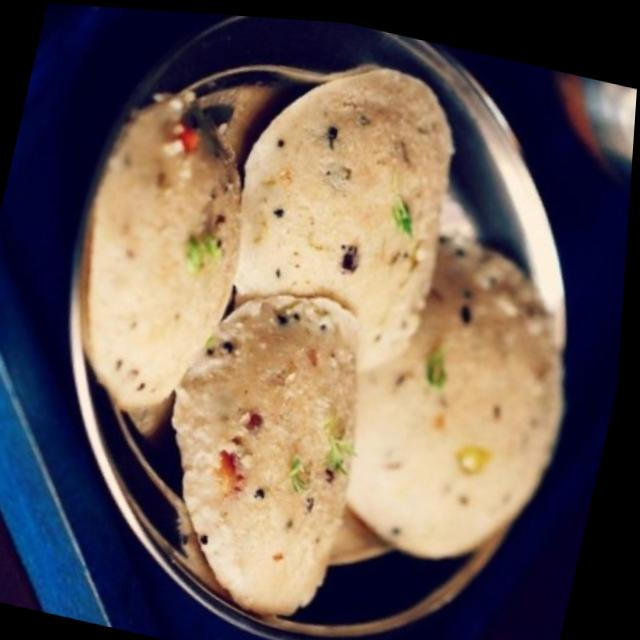IDLI: (85, 68, 562, 615)
